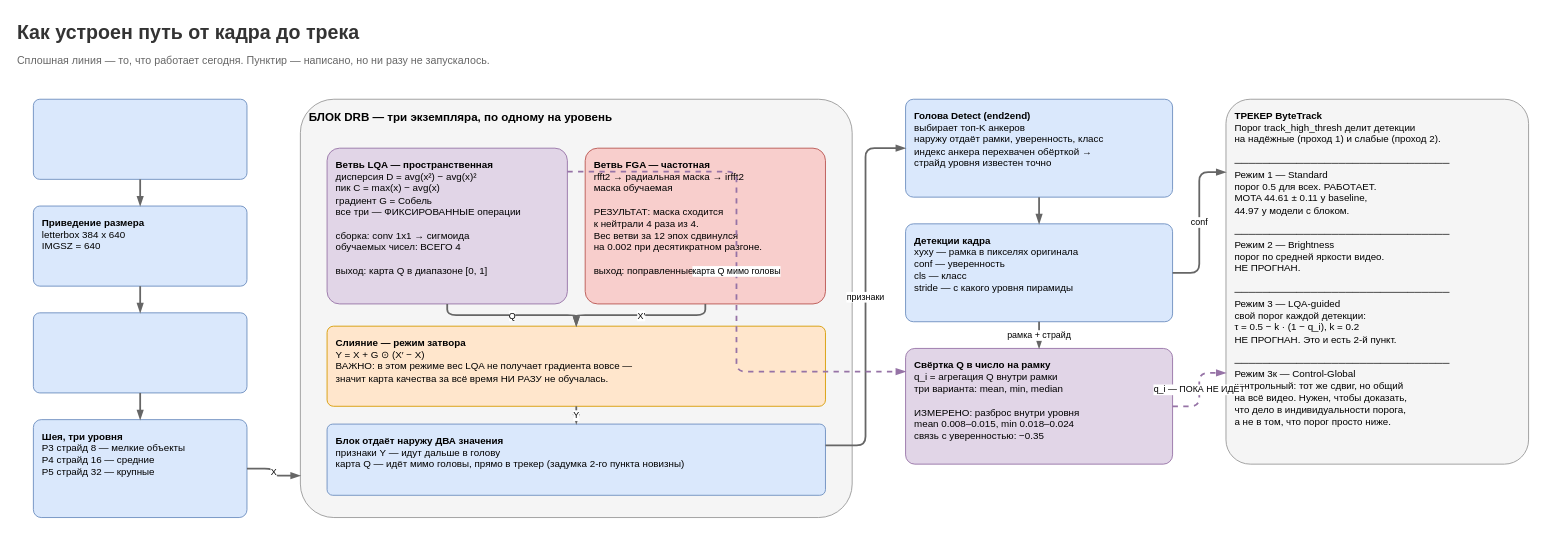
The diagram is 1544 pixels wide and 533 high, and some of its shapes have lost their labels. The shapes that lost their labels are listed below. From the top down, each one's centre as x and y in pixels, then its label:
At (x=139, y=138): "Видео BDD100K кадр 1280 x 720 val: поднабор night".
At (x=139, y=352): "YOLO26, ствол backbone: свёртки, понижение разрешения в 8, 16, 32 раза".
